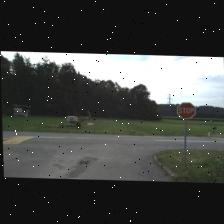Stop: (176, 100, 196, 118)
